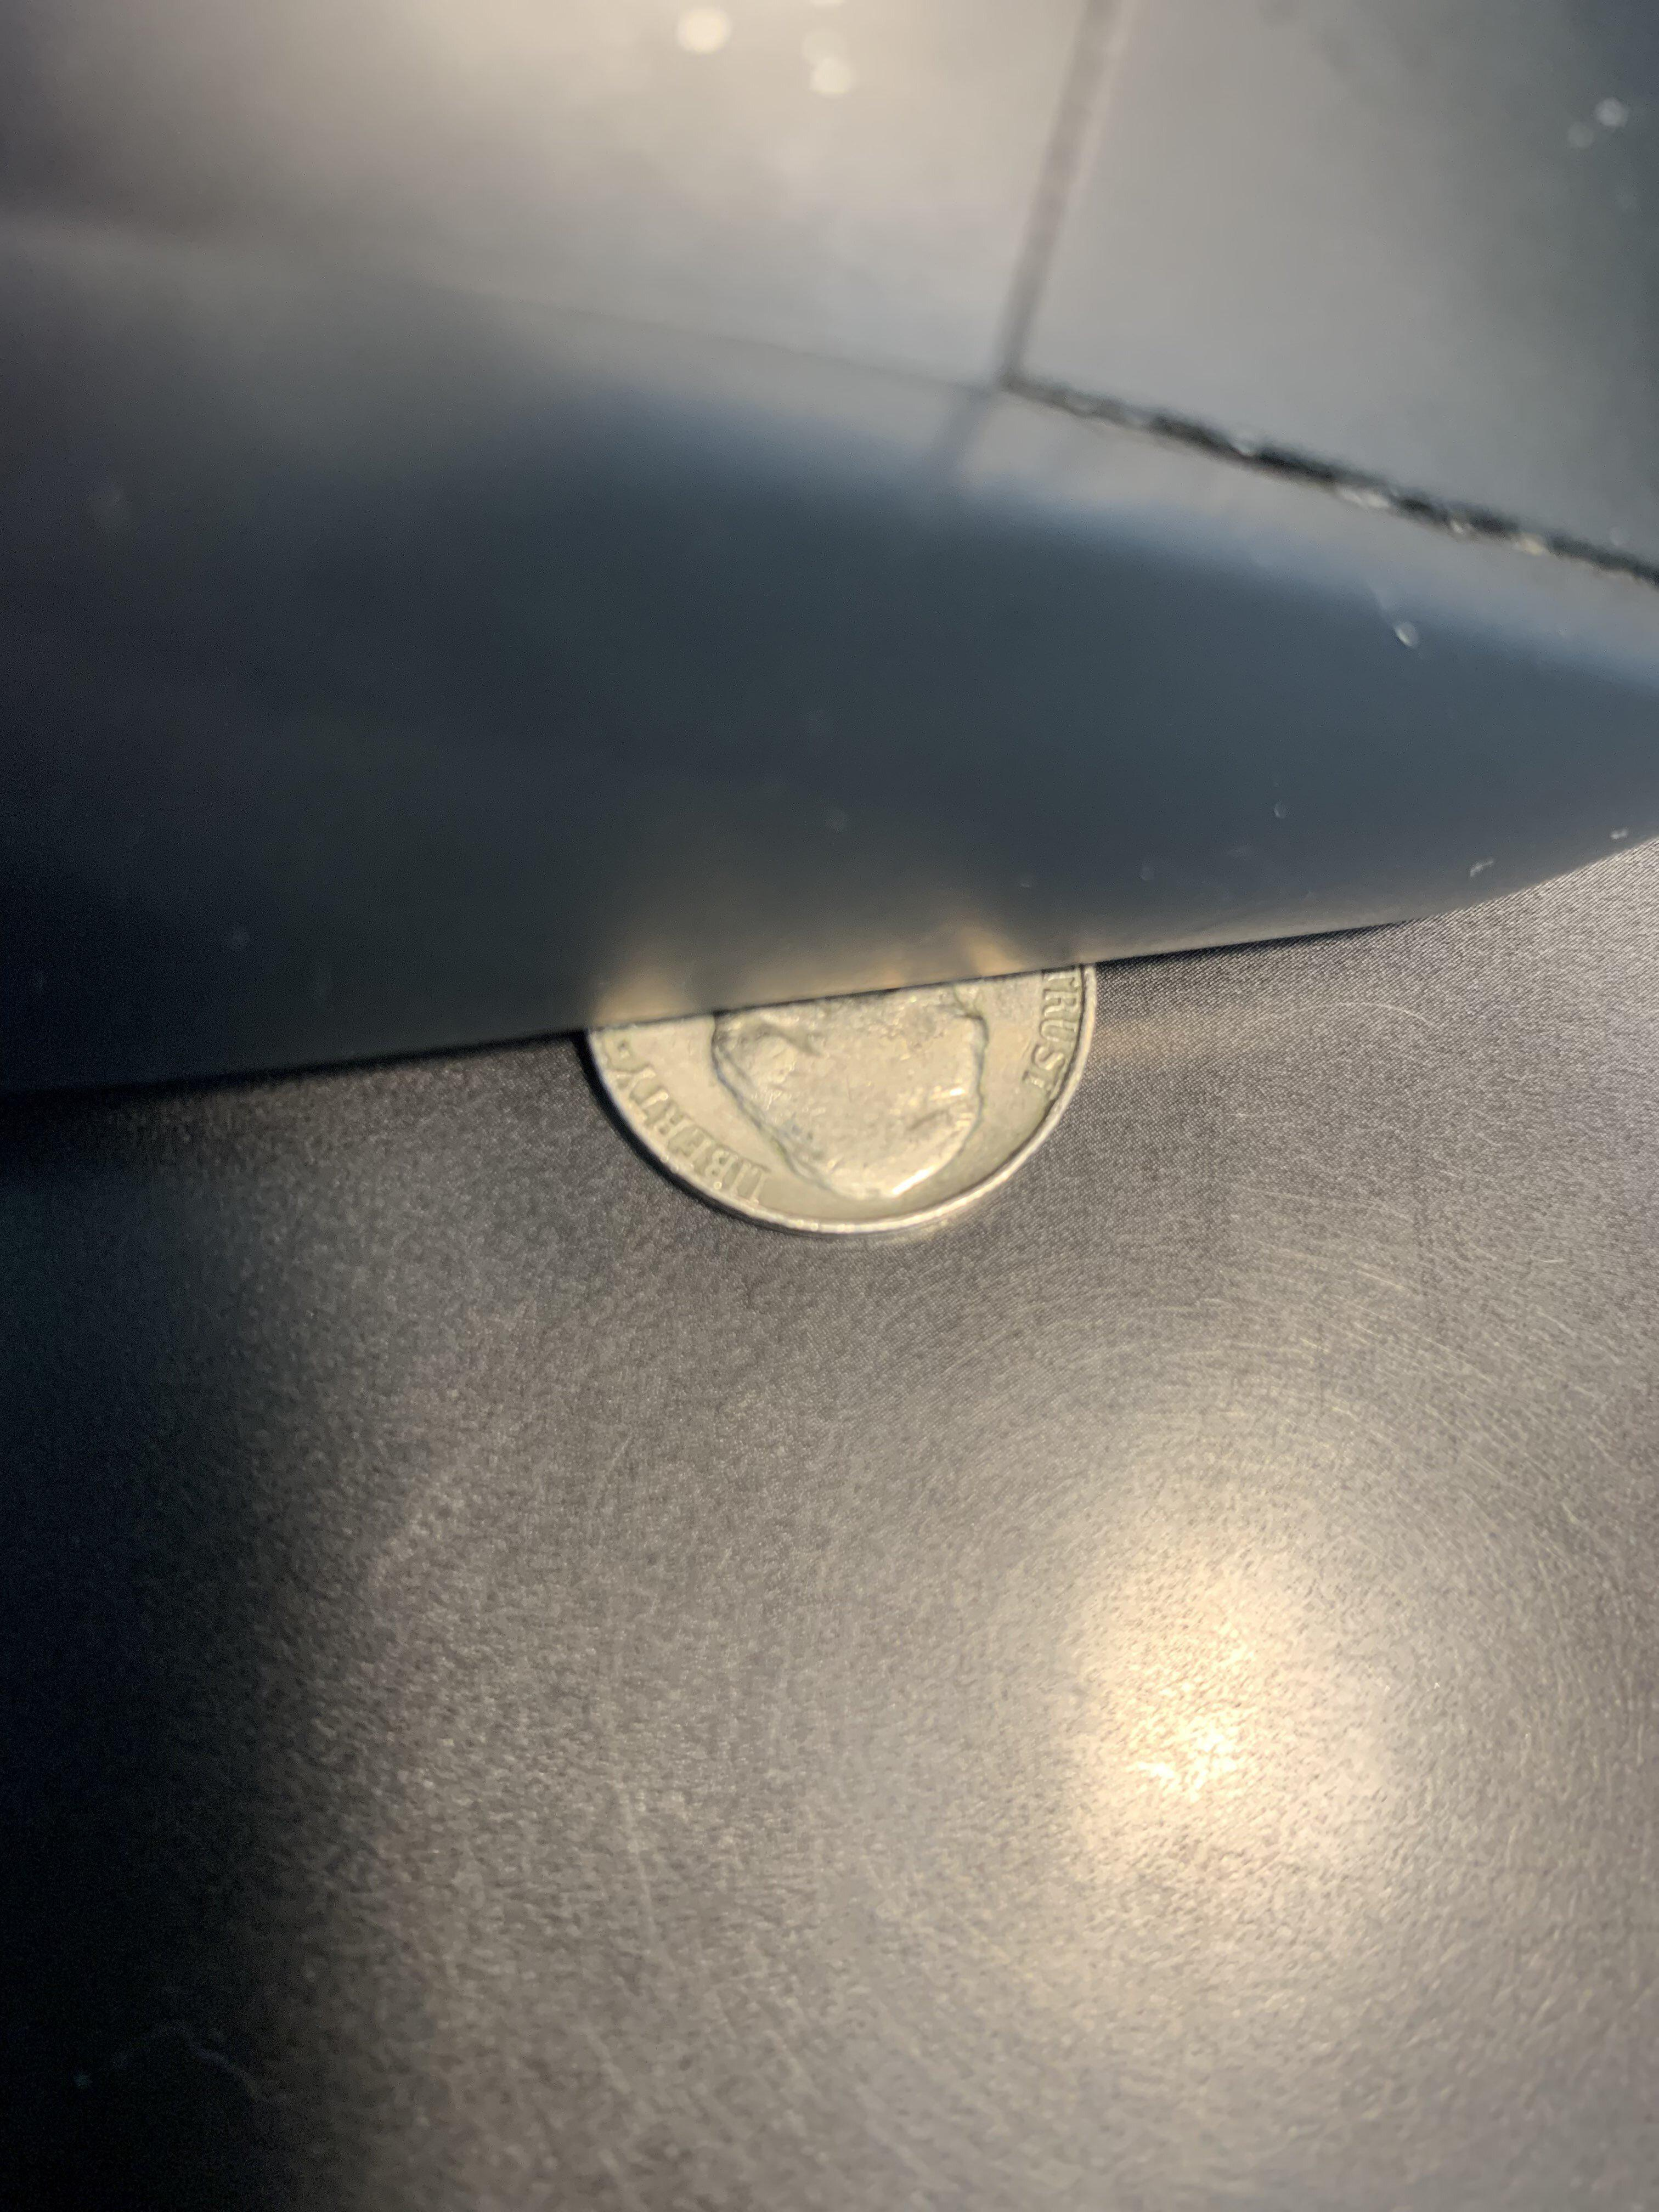Nickel: (498, 894, 1218, 1287)
